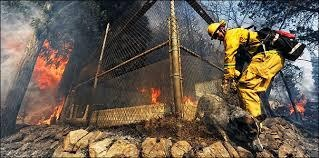fire: (23, 36, 71, 124), (138, 85, 162, 105), (287, 96, 307, 114)
